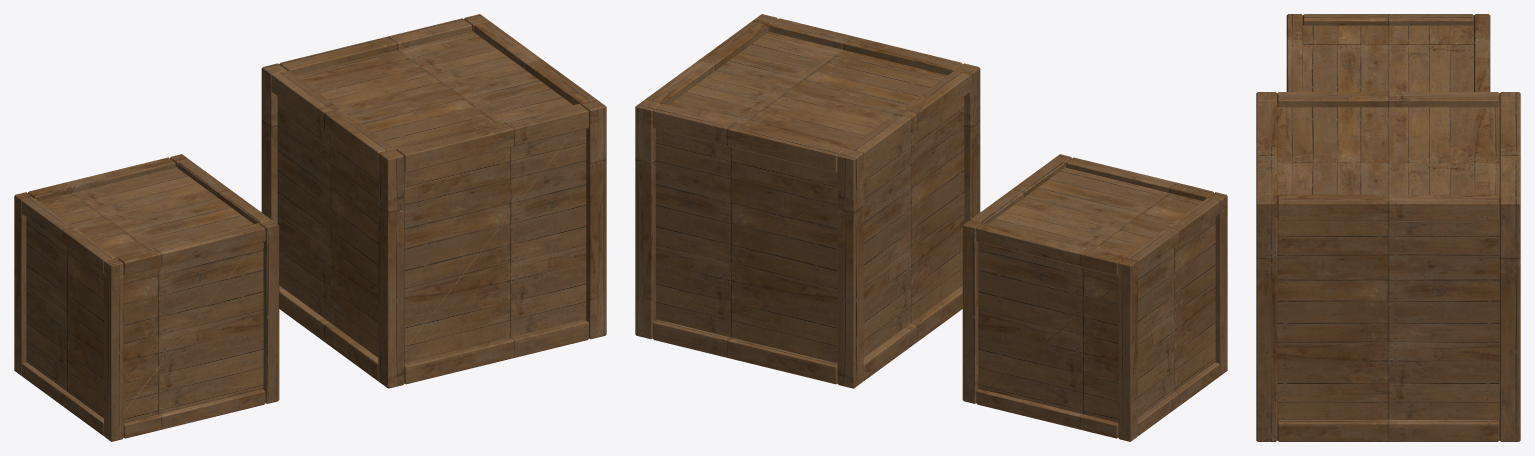
File: crates.glb
The picture shows the model from 3 angles, left to right: view 1: azimuth 30°, elevation 25°; view 2: azimuth 150°, elevation 25°; view 3: azimuth 270°, elevation 25°; orthographic projection. The views are drawn at different scales.
Visible parts, largest first — view 1: Crate_L_Mesh, Crate_S_Mesh; view 2: Crate_L_Mesh, Crate_S_Mesh; view 3: Crate_L_Mesh, Crate_S_Mesh.
Boxes of the visible parts, left/top/right/bottom form: Crate_L_Mesh: left=261, top=14, right=606, bottom=388; Crate_S_Mesh: left=14, top=154, right=279, bottom=441; Crate_L_Mesh: left=635, top=14, right=980, bottom=388; Crate_S_Mesh: left=962, top=154, right=1227, bottom=441; Crate_L_Mesh: left=1256, top=92, right=1520, bottom=441; Crate_S_Mesh: left=1286, top=14, right=1490, bottom=91.
Bounding box in the file's own units: 2.85 × 1.3 × 1.3.
2 materials, 2 textured.
